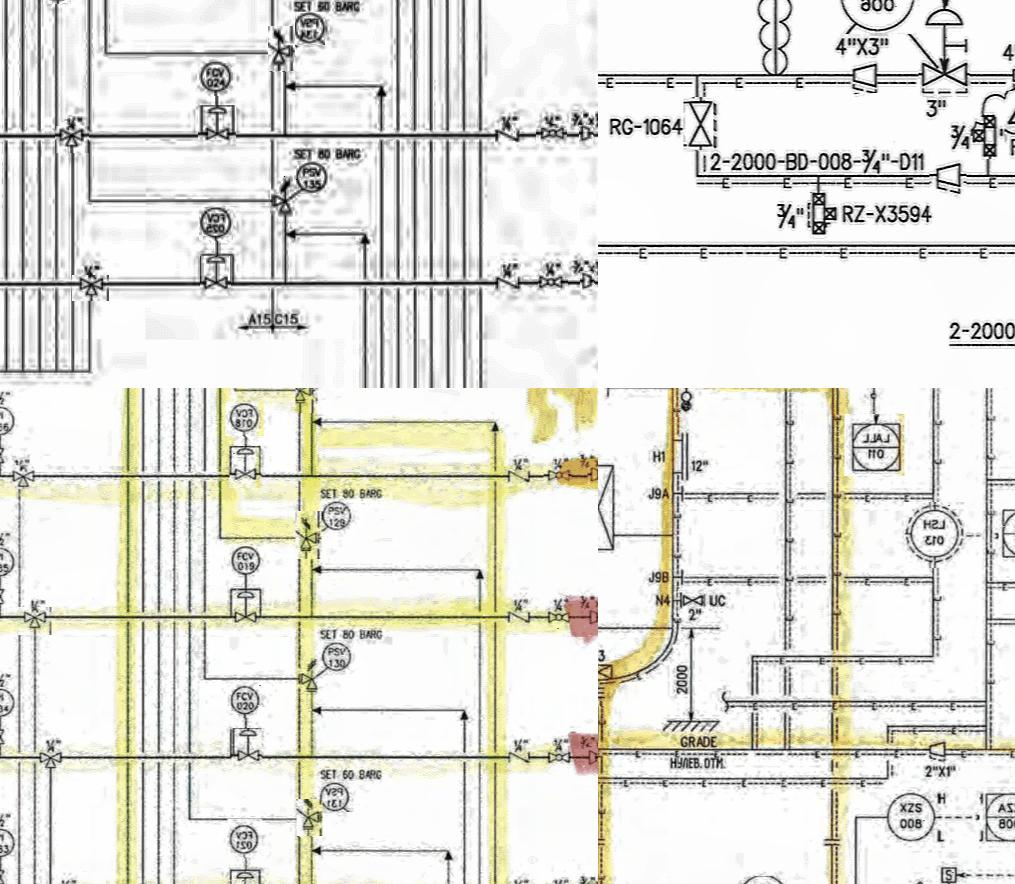2 WAY VALVE: (806, 186, 842, 238), (973, 117, 1006, 159)
3 WAY BALL VALVE: (18, 608, 51, 635), (35, 747, 65, 771), (7, 465, 35, 489)
3 WAY GENERAL VALVE: (72, 275, 110, 301), (56, 126, 90, 154)
ANGLE RELIEF VALVE: (269, 168, 295, 222), (269, 27, 297, 73), (296, 511, 322, 559), (298, 650, 320, 701), (297, 800, 324, 838), (296, 388, 317, 413)
CONCENTRIC REDUCER: (929, 158, 966, 197), (849, 60, 881, 94), (925, 739, 958, 763), (581, 746, 598, 771), (581, 272, 596, 297), (580, 126, 595, 148), (585, 608, 598, 631), (1006, 59, 1015, 92), (588, 468, 598, 489)
DCS ACCESSIBLE: (844, 414, 905, 476), (980, 784, 1015, 849), (999, 506, 1015, 566)
DIAPHRAGM ACTUATED VALVE: (919, 7, 970, 96), (198, 106, 236, 148), (232, 728, 263, 778), (230, 447, 262, 490), (232, 586, 258, 638), (201, 257, 232, 295), (232, 870, 263, 884)
FIELD INSTRUMENT: (903, 502, 964, 569), (840, 0, 919, 36), (884, 792, 940, 842), (318, 636, 354, 679), (228, 818, 263, 858), (198, 58, 234, 96), (226, 540, 264, 576), (226, 402, 265, 437), (228, 683, 263, 719), (295, 158, 327, 197), (200, 208, 235, 242), (321, 500, 354, 535), (317, 782, 353, 813), (296, 13, 327, 47), (0, 404, 19, 440), (0, 685, 17, 719), (0, 824, 14, 862), (0, 545, 15, 578)
GATE VALVE: (684, 98, 715, 152), (677, 589, 712, 614), (0, 723, 11, 750), (0, 581, 9, 609), (0, 441, 8, 465), (0, 867, 9, 884)
HARDWIRED INTERLOCK FIELD: (907, 875, 936, 884)
PLUG VALVE: (542, 745, 574, 768), (544, 608, 577, 629), (536, 124, 567, 146), (538, 272, 568, 294), (544, 466, 572, 484)
REVISION TRIANGLE: (1005, 92, 1015, 128)
SPECTACLE BLIND OPEN: (673, 388, 700, 417), (598, 682, 618, 707)
SPEED FLOW METER: (937, 863, 963, 884)
